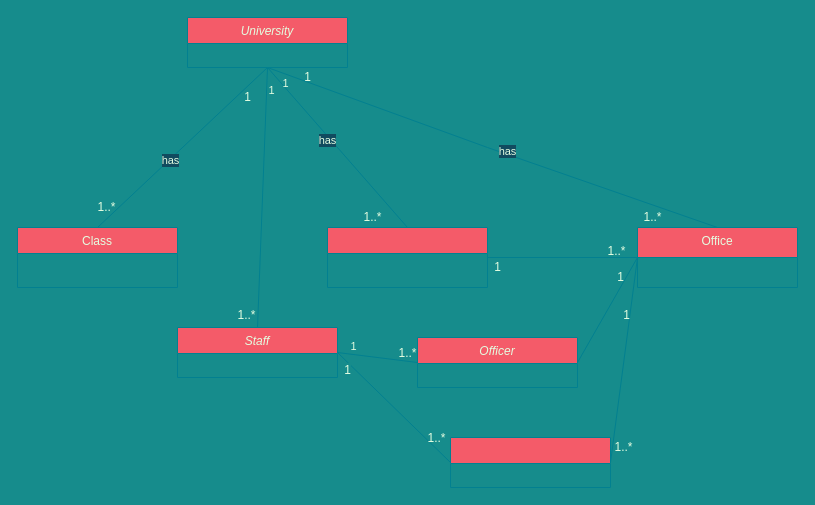
Image size: 815x505. Some labels were removed from this diagram. The shapes that lost their labels are listed below. From the top down, each one's centre as x and y in pixels, then its label:
pixel 407 257: Department
pixel 530 462: Professor
